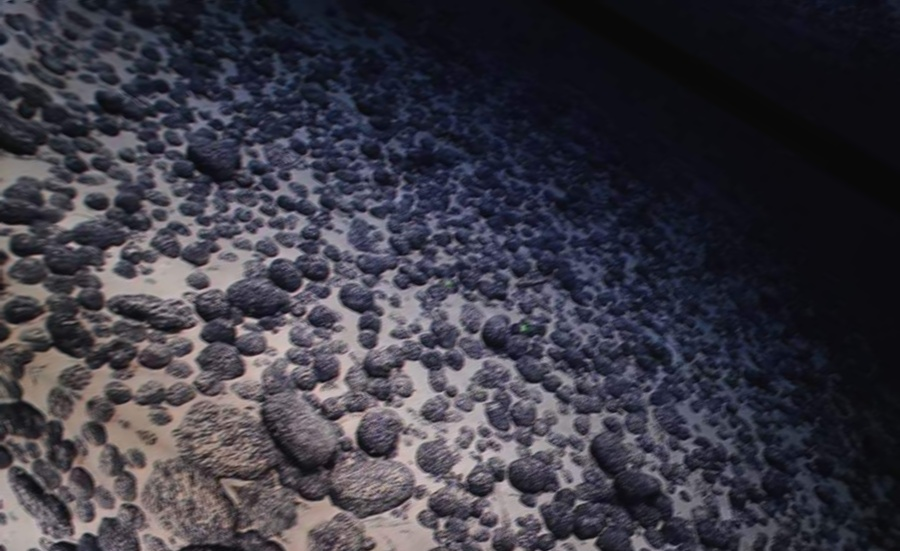halobolite: (250, 381, 355, 479), (423, 465, 492, 534), (643, 338, 718, 391), (770, 384, 831, 449), (160, 429, 234, 465), (229, 277, 283, 324), (249, 371, 309, 408), (153, 293, 207, 332), (315, 514, 374, 548), (482, 396, 524, 442), (609, 324, 650, 370), (116, 487, 169, 522), (413, 437, 456, 474), (558, 384, 599, 420), (606, 403, 641, 445), (268, 261, 311, 294), (202, 461, 239, 498), (468, 283, 502, 323), (271, 339, 313, 371), (282, 318, 326, 348), (338, 323, 373, 355), (506, 353, 542, 384), (702, 444, 739, 473), (514, 297, 548, 328), (192, 367, 225, 396), (529, 414, 558, 447), (663, 402, 695, 431), (44, 388, 76, 417), (388, 364, 415, 397), (338, 293, 371, 320), (347, 396, 377, 425), (81, 425, 112, 453), (127, 452, 159, 479), (425, 311, 457, 338), (135, 381, 167, 407), (297, 256, 331, 280), (111, 274, 143, 296), (166, 335, 196, 358), (569, 292, 595, 317), (352, 262, 378, 287), (135, 340, 163, 363), (425, 262, 453, 285), (541, 362, 570, 383), (448, 356, 472, 381), (384, 274, 414, 294), (258, 314, 283, 337)
